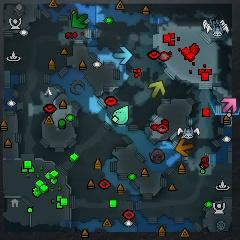p2: (113, 105, 129, 125)
x1: (221, 97, 237, 114)
x2: (149, 80, 165, 98)
x3: (114, 46, 132, 64)
x4: (71, 12, 88, 29)
x5: (175, 138, 193, 156)
